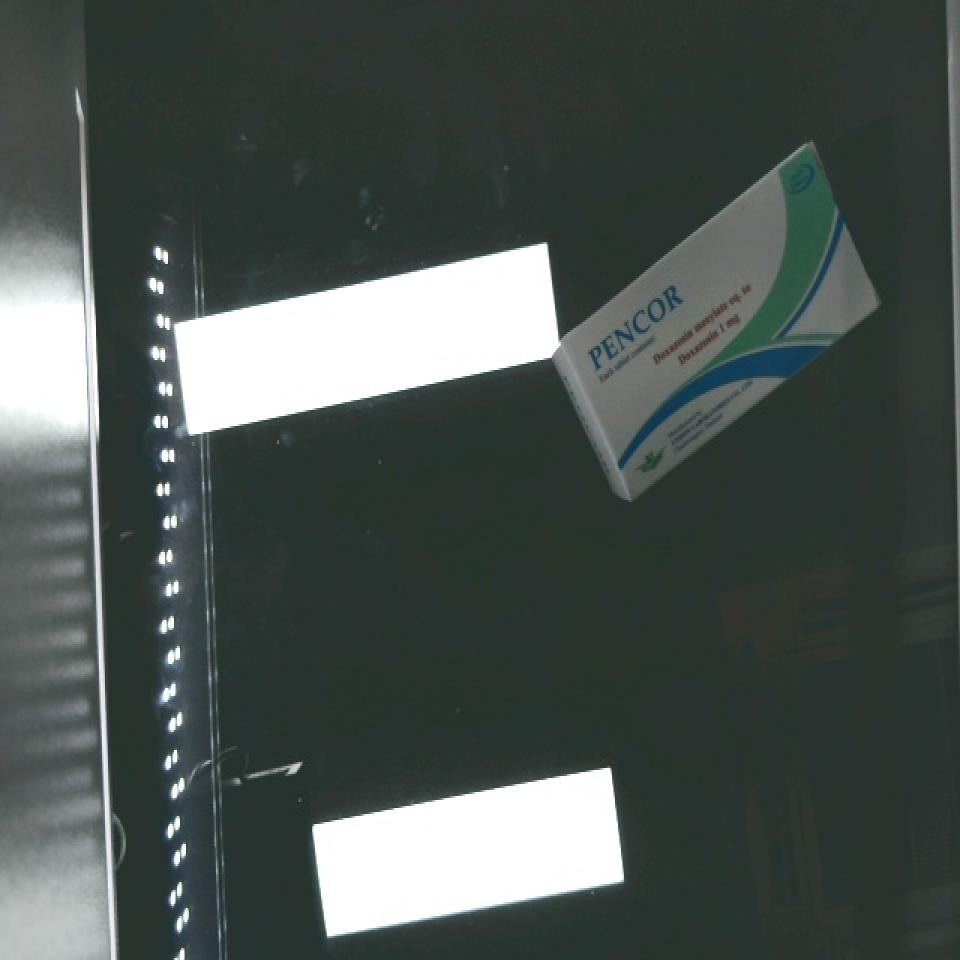medicine_box: (524, 138, 918, 504)
medicine_label_obb: (558, 261, 709, 391)
